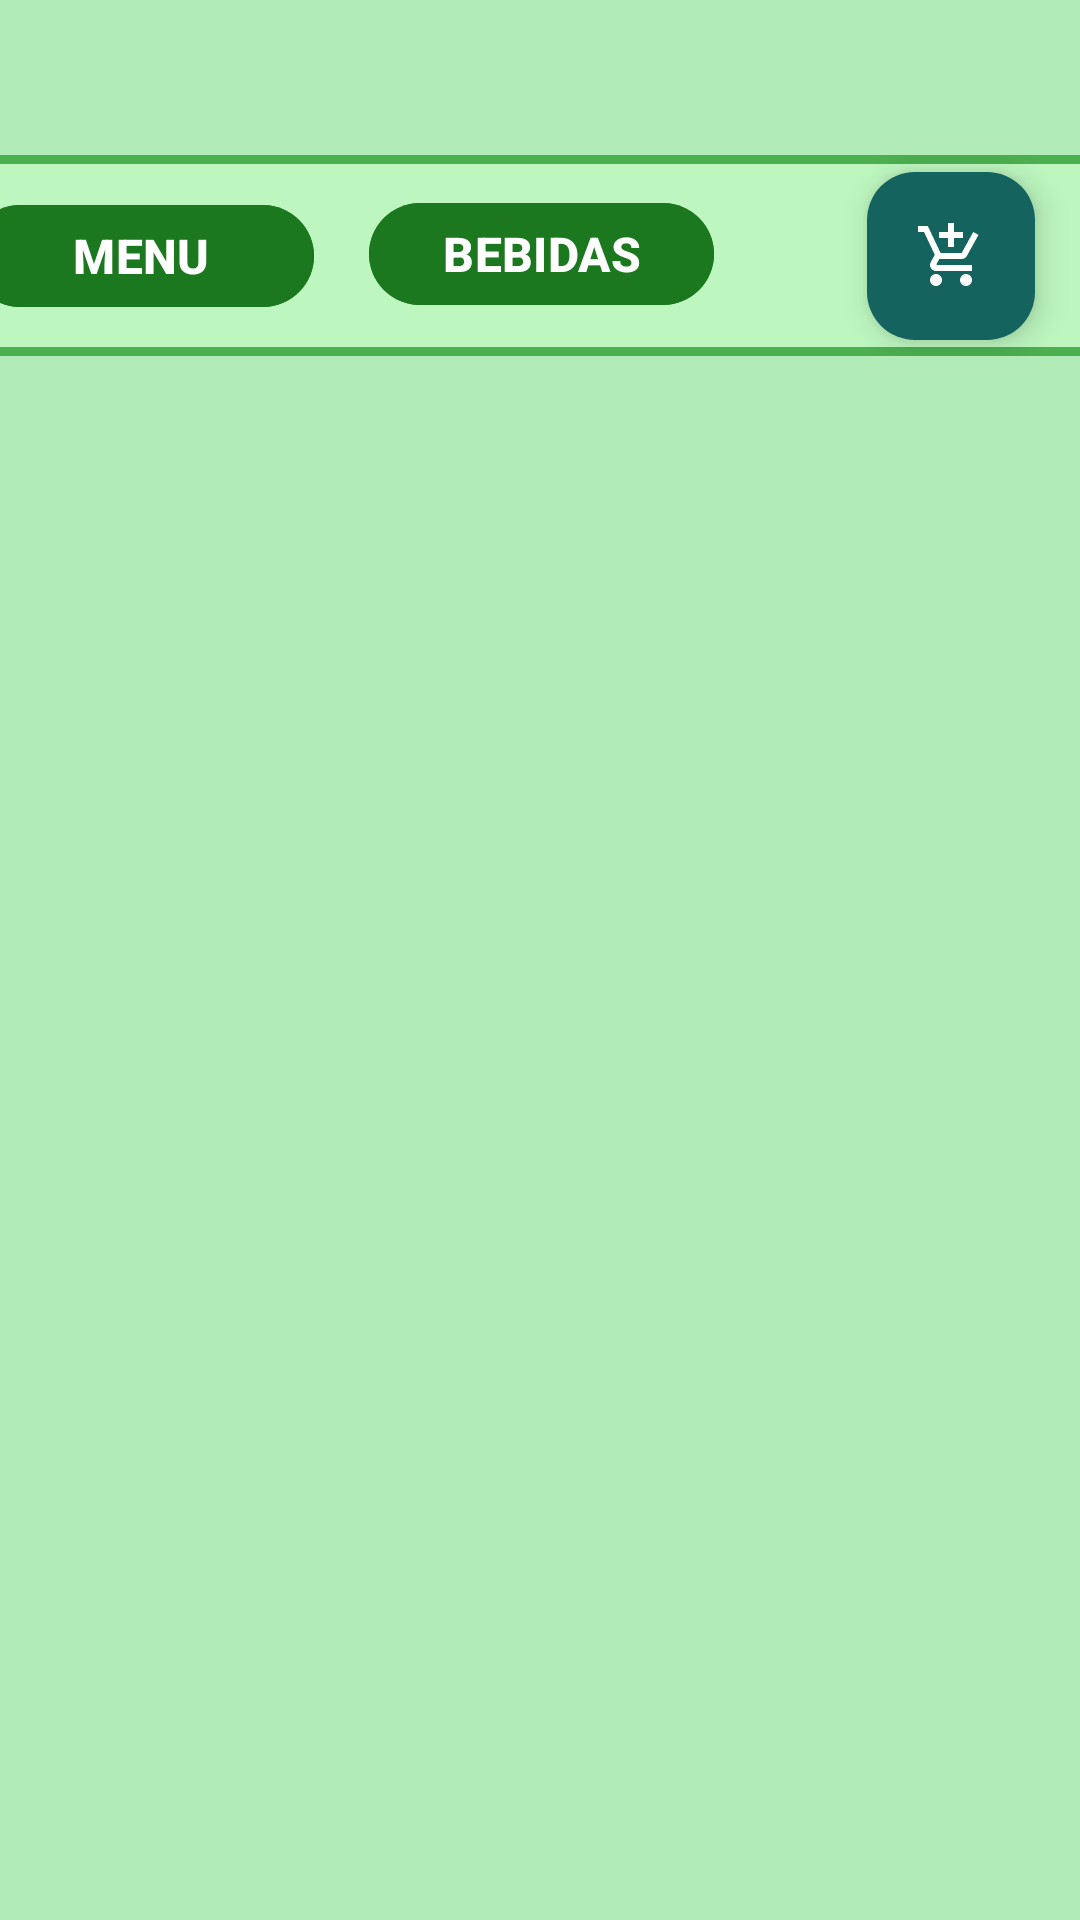

Named icons in this screenshot (1080*1920) and their bounding boxes, [x1, y1, x2, y2]:
shopping car: [867, 172, 1035, 340]
